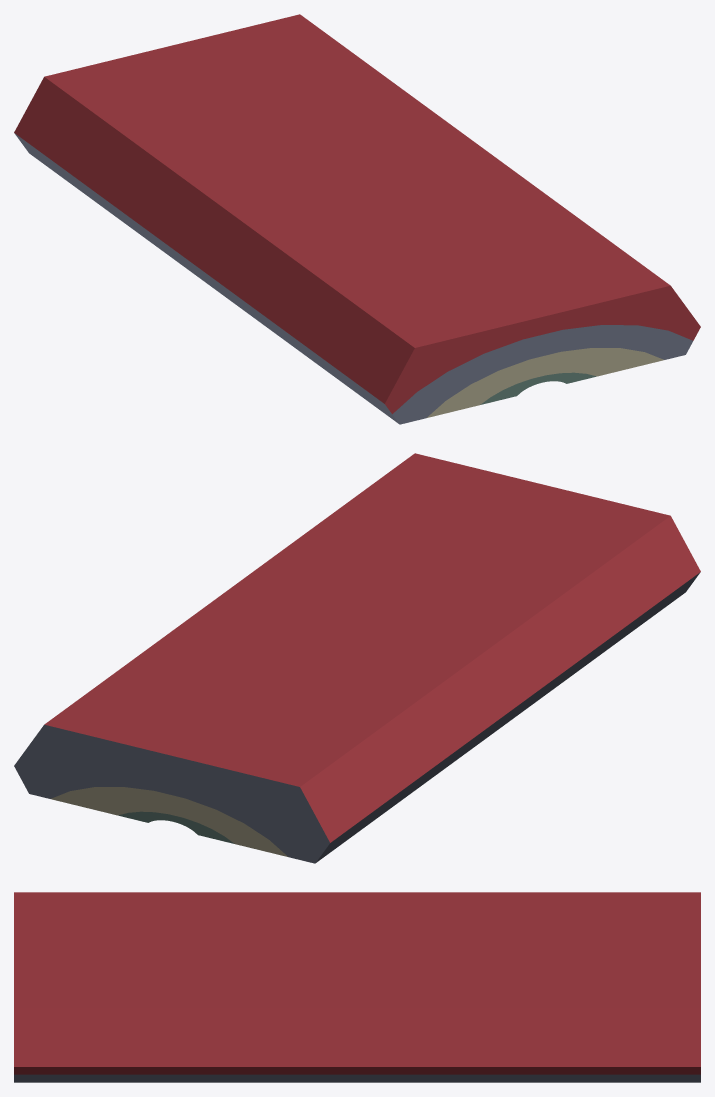
Rendered from Junk_1.fbx.
3 renders of one model, top to bottom at view 1: azimuth 30°, elevation 25°; view 2: azimuth 150°, elevation 25°; view 3: azimuth 270°, elevation 25°, orthographic. The views are drawn at different scales.
Parts seen in each view (by area): view 1: Model; view 2: Model; view 3: Model.
Boxes of the visible parts, x1,y1,x2,y2 form: Model: [14, 14, 700, 424]; Model: [14, 453, 700, 863]; Model: [14, 892, 700, 1082].
Bounding box in the file's own units: 81.36 × 17.93 × 165.
